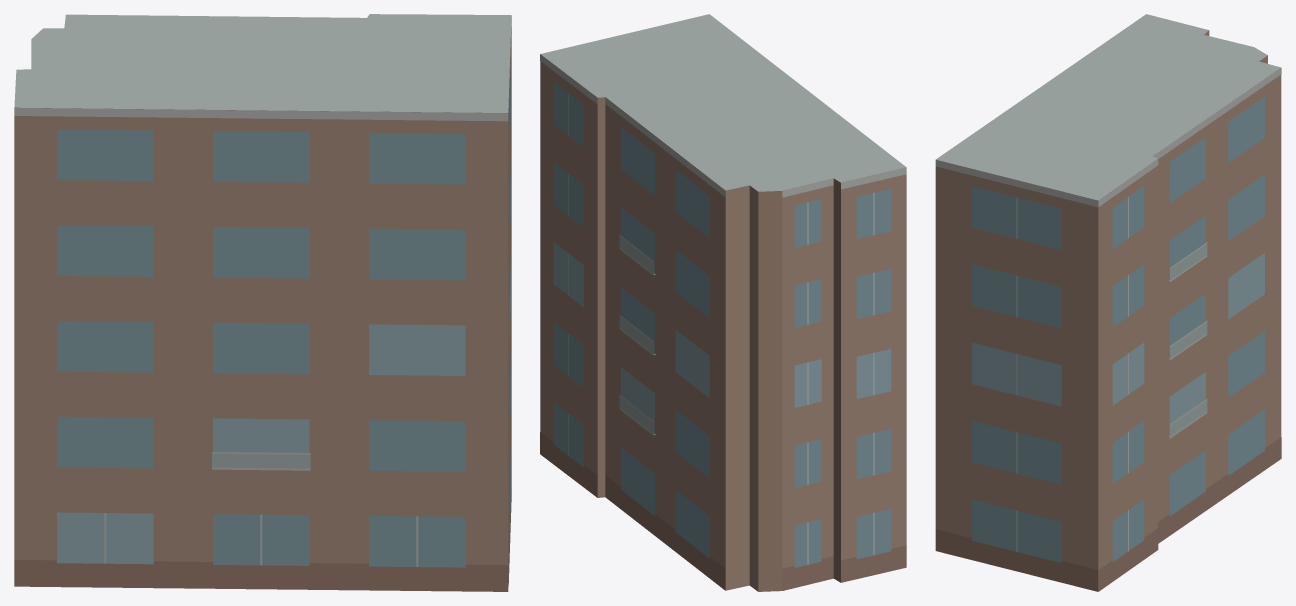
Rendered from survey-upis-33028709.glb.
3 views of the same model, side by side, from view 1: azimuth 30°, elevation 25°; view 2: azimuth 150°, elevation 25°; view 3: azimuth 270°, elevation 25° (orthographic). The views are drawn at different scales.
Visible parts, largest first — view 1: survey-upis-33028709.tmp; view 2: survey-upis-33028709.tmp; view 3: survey-upis-33028709.tmp.
Part boxes in pixels (x1,y1,x2,y2): survey-upis-33028709.tmp: (14, 14, 511, 591); survey-upis-33028709.tmp: (540, 14, 906, 591); survey-upis-33028709.tmp: (935, 14, 1281, 591).
Bounding box in the file's own units: 14.53 × 14.2 × 11.38.
